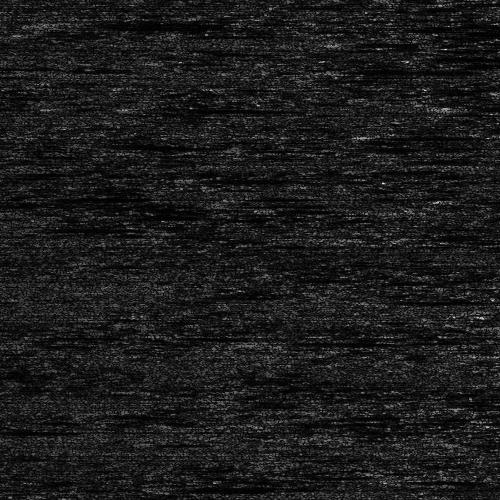rock: (6, 19, 111, 28), (424, 194, 500, 205), (164, 173, 247, 182), (147, 483, 210, 490), (234, 338, 317, 343), (315, 66, 356, 73), (472, 325, 500, 330)
shadow: (59, 19, 189, 28), (206, 173, 316, 182), (179, 483, 319, 490), (336, 66, 462, 73), (276, 338, 430, 343), (471, 194, 500, 205)
